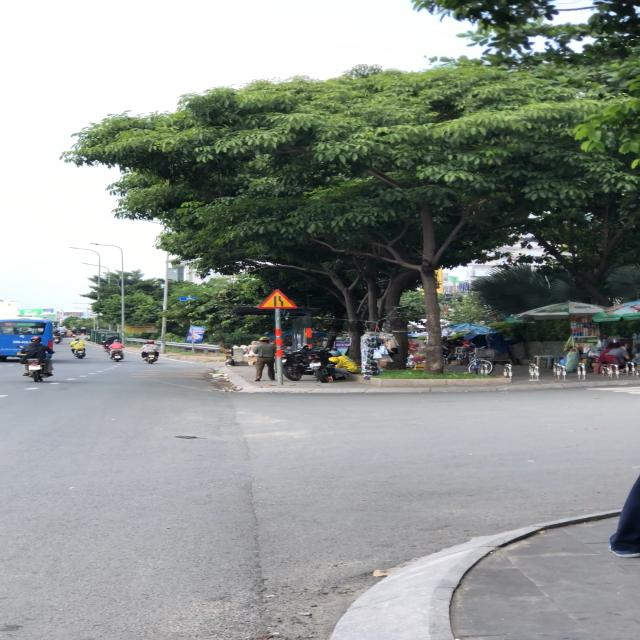Bien bao duong bi thu hep: (257, 287, 299, 310)
